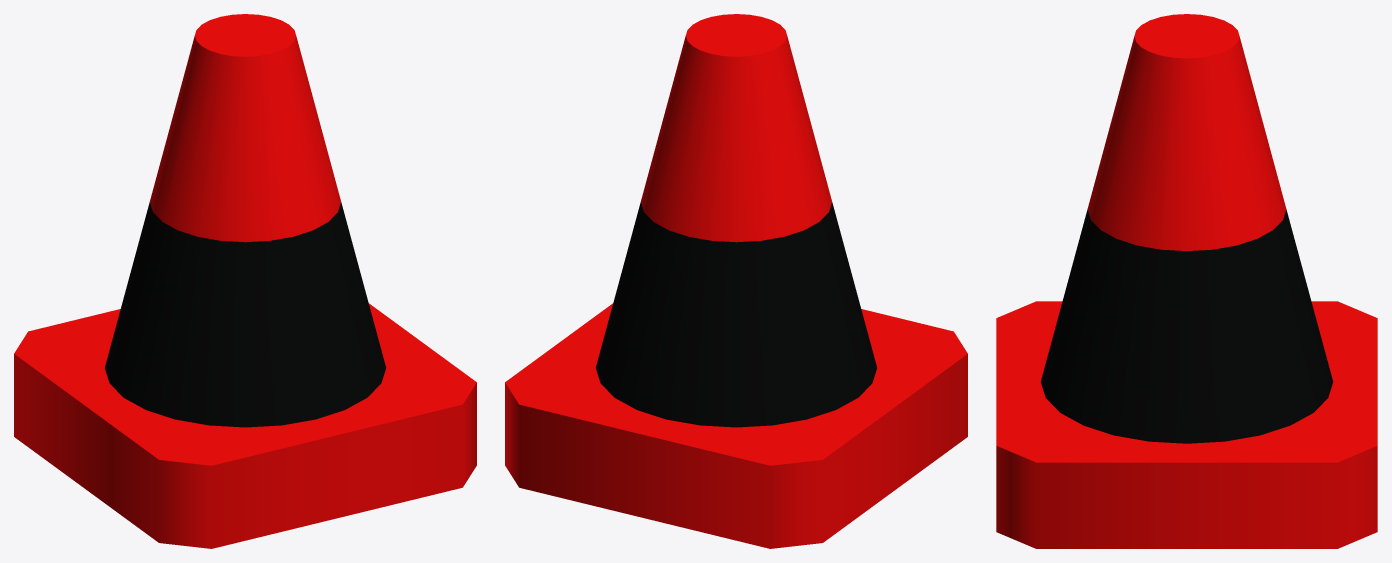
The picture shows the model from 3 angles, left to right: view 1: azimuth 30°, elevation 25°; view 2: azimuth 150°, elevation 25°; view 3: azimuth 270°, elevation 25°; orthographic projection. The views are drawn at different scales.
Visible parts, largest first — view 1: cone; view 2: cone; view 3: cone.
Boxes of the visible parts, left/top/right/bottom form: cone: left=14, top=14, right=476, bottom=548; cone: left=505, top=14, right=967, bottom=548; cone: left=996, top=14, right=1377, bottom=548.
Bounding box in the file's own units: 0.4763 × 0.5952 × 0.4763.
1 material, 1 textured.
